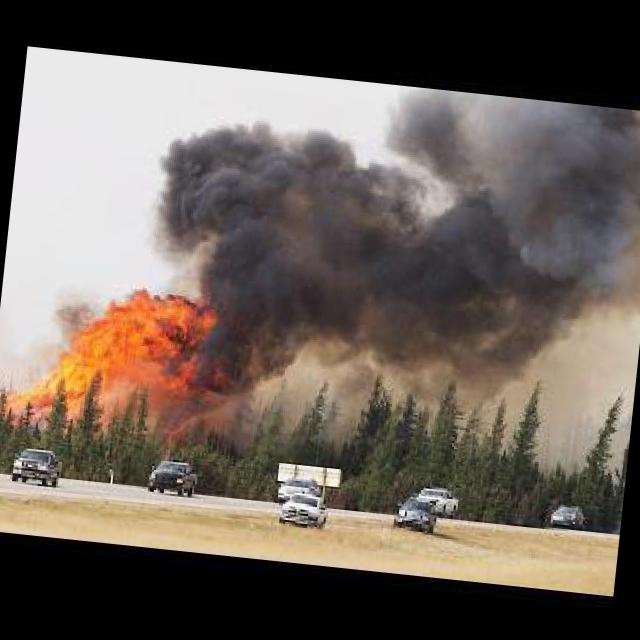Fire: (0, 257, 247, 446)
Smoke: (146, 56, 640, 423)
